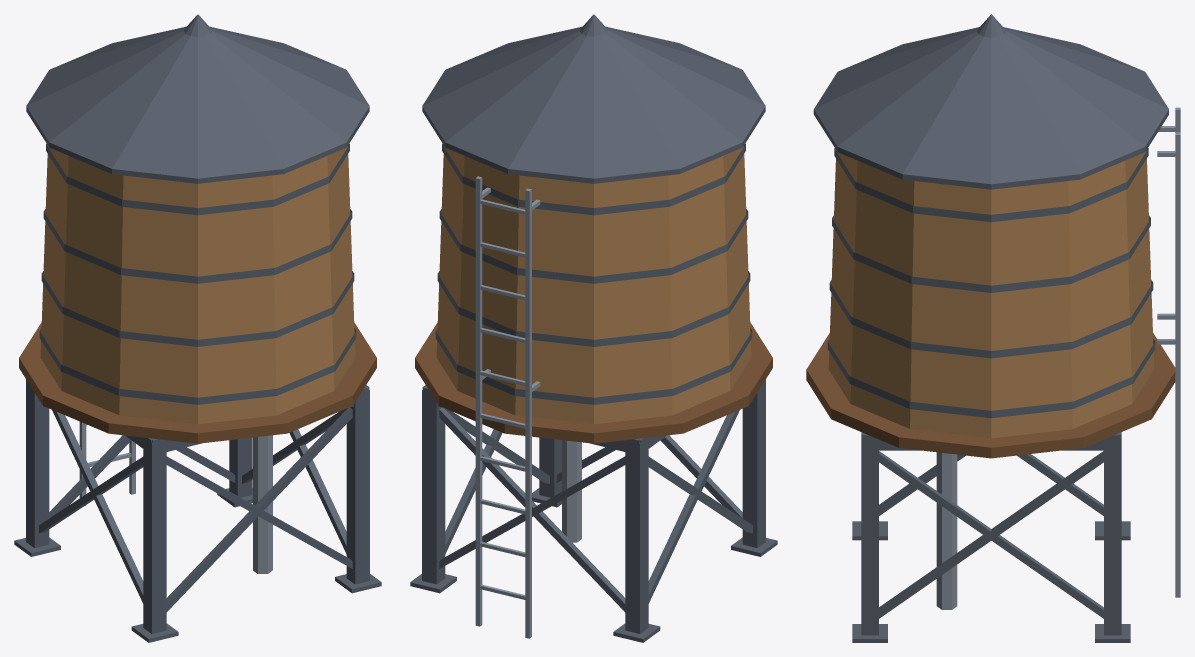
File: water_tank.glb
3 renders of one model, left to right at view 1: azimuth 30°, elevation 25°; view 2: azimuth 150°, elevation 25°; view 3: azimuth 270°, elevation 25°, orthographic. The views are drawn at different scales.
Parts seen in each view (by area): view 1: water_tank; view 2: water_tank; view 3: water_tank.
Boxes of the visible parts, left/top/right/bottom form: water_tank: left=14, top=14, right=381, bottom=642; water_tank: left=410, top=14, right=777, bottom=642; water_tank: left=806, top=14, right=1180, bottom=642.
Bounding box in the file's own units: 2.5 × 4.25 × 2.53.
